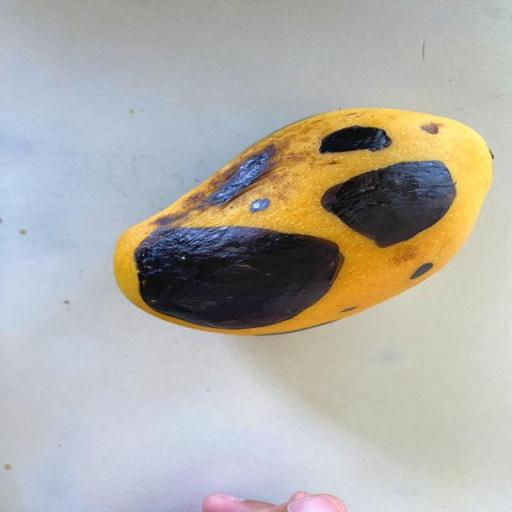mango-overripe: (87, 69, 503, 347)
